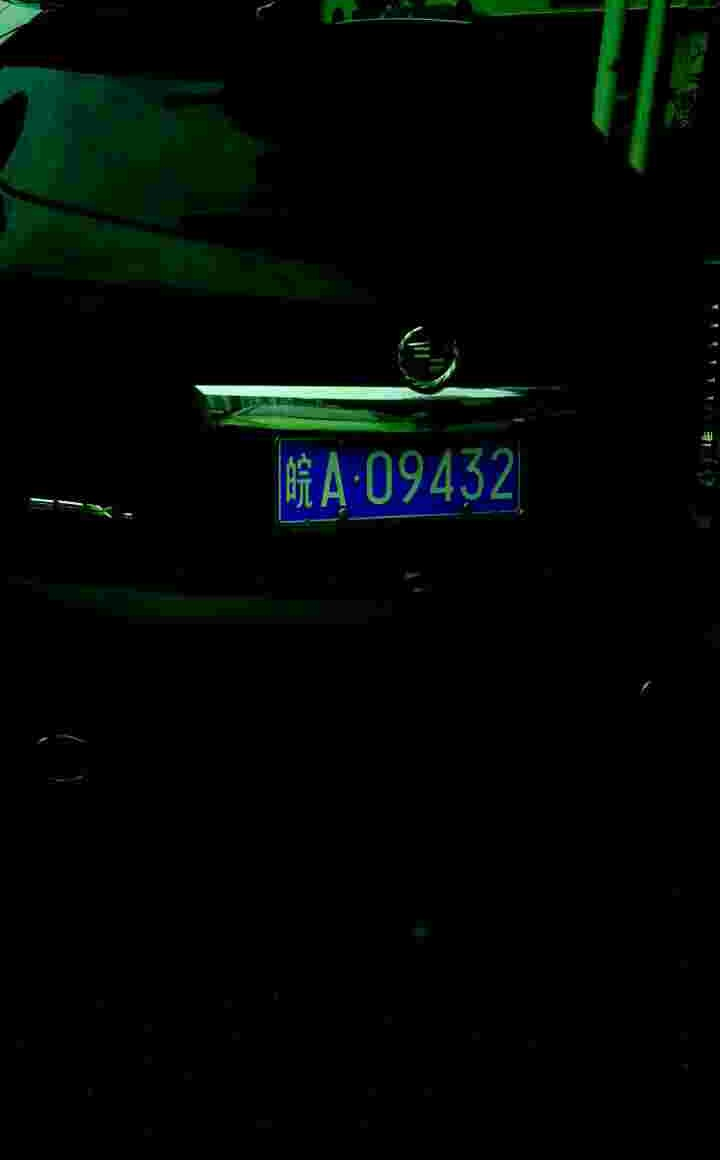plate: (284, 431, 530, 523)
